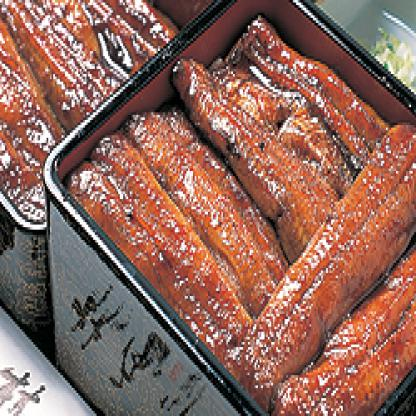eel: (95, 46, 414, 413), (0, 0, 152, 116)
